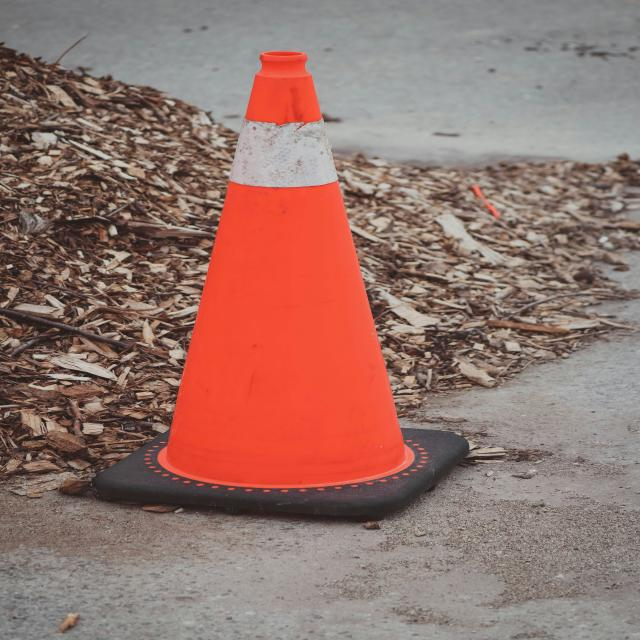Traffic Cone: (56, 36, 509, 534)
